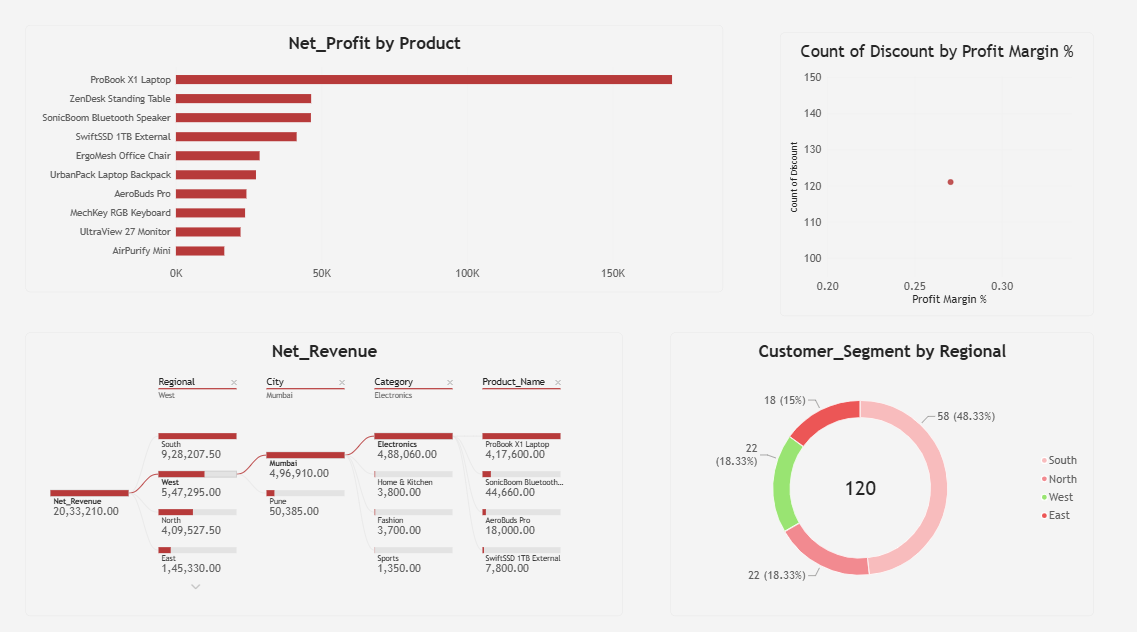

The dashboard page shown, as its layout file describes it:
{"tool":"powerbi","page":{"name":"Product & Customer Insights","canvas":[1920,1080],"ordinal":1},"visuals":[{"type":"clusteredBarChart","title":"Net_Profit by Product","fields":{"Category":["products_raw.Product_Name"],"Y":["_Measures.Net_Profit","select"]},"box":[52.5,55,1162.5,445],"z":0},{"type":"donutChart","title":"Customer_Segment by Regional","fields":{"Category":["customers_raw.Column6"],"Y":["CountNonNull(customers_raw.Column3)"]},"box":[1127.5,567.5,705,472.5],"z":1000},{"type":"scatterChart","title":"Count of Discount by Profit Margin %","fields":{"X":["_Measures.Profit Margin %"],"Y":["CountNonNull(orders_raw.Discount)"]},"box":[1310,67.5,522.5,472.5],"z":2000},{"type":"decompositionTreeVisual","title":"Net_Revenue","fields":{"Analyze":["_Measures.Net_Revenue"],"ExplainBy":["customers_raw.Column6","customers_raw.Column4","products_raw.Category","products_raw.Product_Name"]},"box":[52.5,567.5,995,472.5],"z":3000}]}

Visuals, with their boxes in screenshot pixels (x1, y1, x2, y2), scaled from the page's 1920x1080 canvas onto the 1137x632 screenshot:
"Net_Profit by Product" clusteredBarChart: (31, 32, 720, 293)
"Customer_Segment by Regional" donutChart: (668, 332, 1085, 609)
"Count of Discount by Profit Margin %" scatterChart: (776, 40, 1085, 316)
"Net_Revenue" decompositionTreeVisual: (31, 332, 620, 609)
